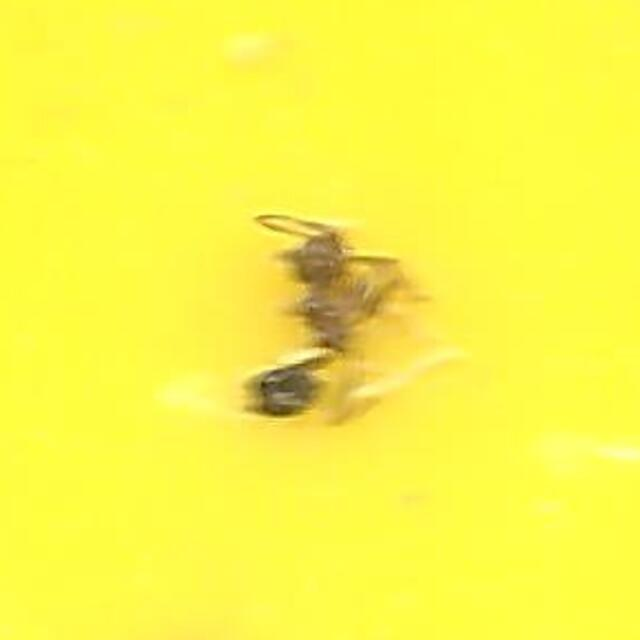Hymenoptera: (221, 203, 419, 437)
